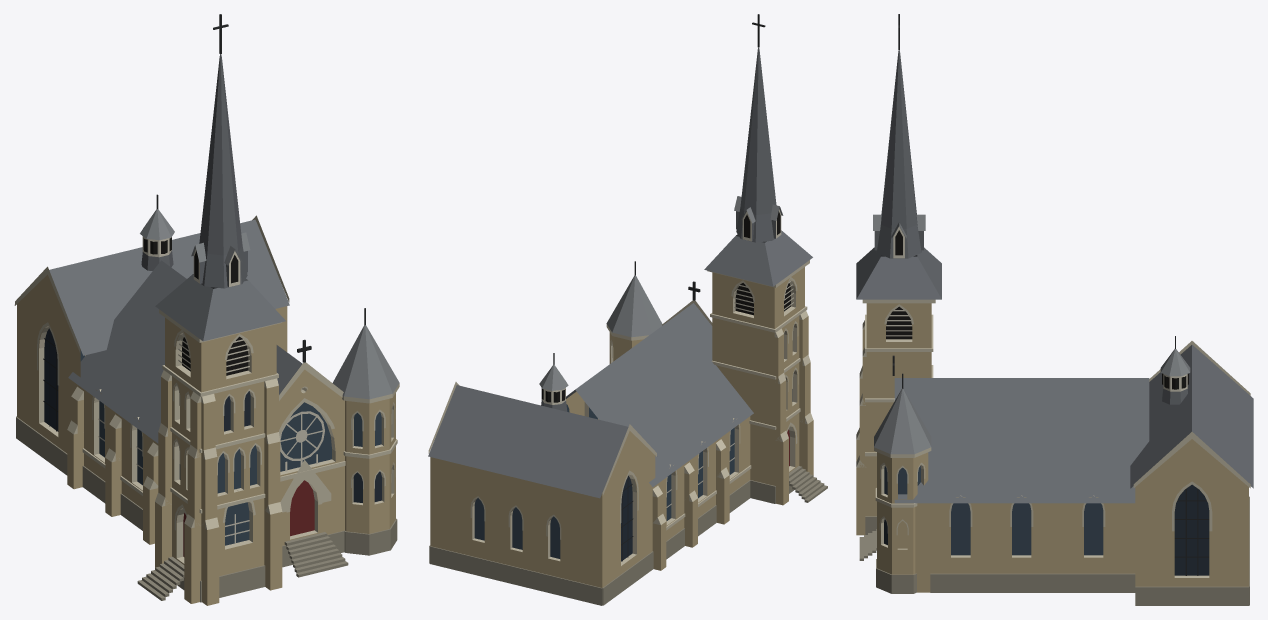
File: first-lutheran-church.glb
3 views of the same model, side by side, from view 1: azimuth 30°, elevation 25°; view 2: azimuth 150°, elevation 25°; view 3: azimuth 270°, elevation 25° (orthographic). The views are drawn at different scales.
Parts seen in each view (by area): view 1: first_brick, first_slate, first_trim, first_base, first_stain, first_slate2, first_glass, first_shadow, first_door, first_wood, first_lead, first_iron; view 2: first_brick, first_slate, first_trim, first_base, first_slate2, first_stain, first_shadow, first_glass, first_wood, first_iron; view 3: first_slate, first_brick, first_base, first_trim, first_stain, first_slate2, first_glass, first_shadow, first_iron, first_wood.
Part boxes in pixels (x1,y1,x2,y2): first_brick: (17,274,395,605); first_slate: (14,54,302,443); first_trim: (15,215,399,563); first_base: (16,416,397,602); first_stain: (80,350,381,545); first_slate2: (140,209,399,399); first_glass: (44,328,381,502); first_shadow: (143,237,302,389); first_door: (183,480,314,556); first_wood: (142,236,317,471); first_lead: (98,411,324,543); first_iron: (43,14,365,431); first_brick: (430,267,813,587); first_slate: (428,47,812,498); first_trim: (428,260,813,565); first_base: (429,466,827,605); first_slate2: (539,196,783,390); first_stain: (474,389,792,558); first_shadow: (541,211,790,402); first_glass: (621,475,632,561); first_wood: (542,209,793,404); first_iron: (553,14,765,561); first_slate: (856,50,1253,503); first_brick: (856,303,1248,592); first_base: (859,496,1249,605); first_trim: (856,299,1250,577); first_stain: (884,466,1103,555); first_slate2: (873,214,1190,454); first_glass: (884,484,1209,575); first_shadow: (886,230,1188,389); first_iron: (892,14,1209,575); first_wood: (886,226,1187,391).
Bounding box in the file's own units: 20.18 × 40.2 × 28.7.
